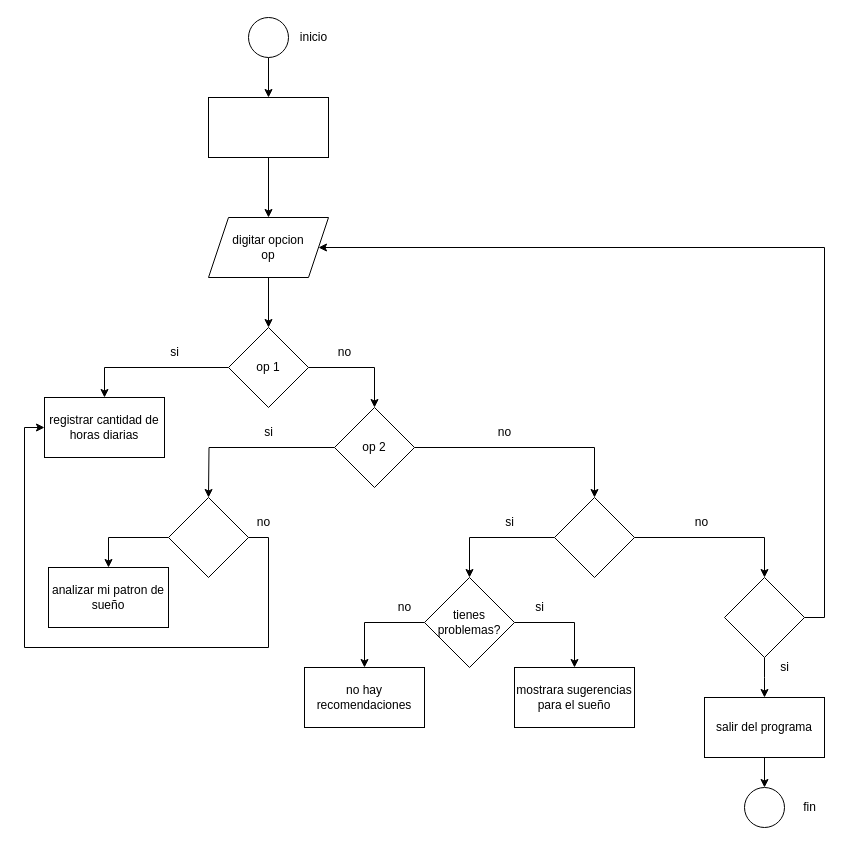
This 850x845 diagram has some shape labels left out. Here are the shapes that lost their labels. From the top down, the centre of each, then its label:
At point (268, 127): "conectar la bd".
At point (208, 537): "hay registros?".
At point (594, 537): "op 3".
At point (764, 617): "op 4".
